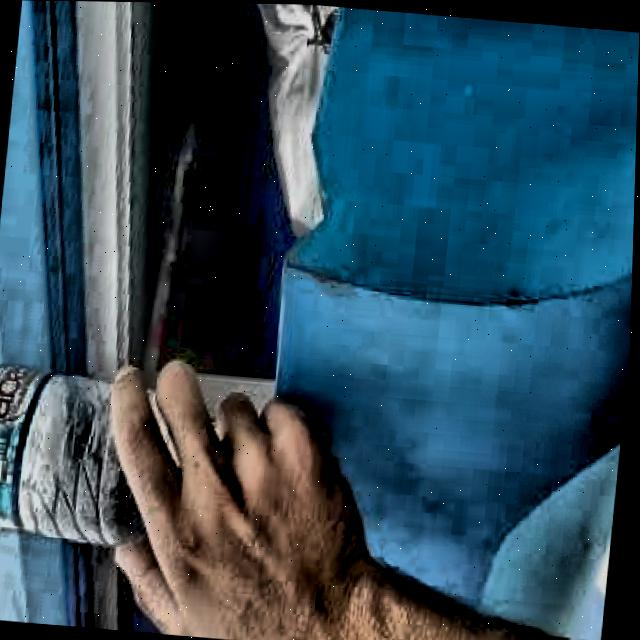plastic: (0, 364, 146, 544)
